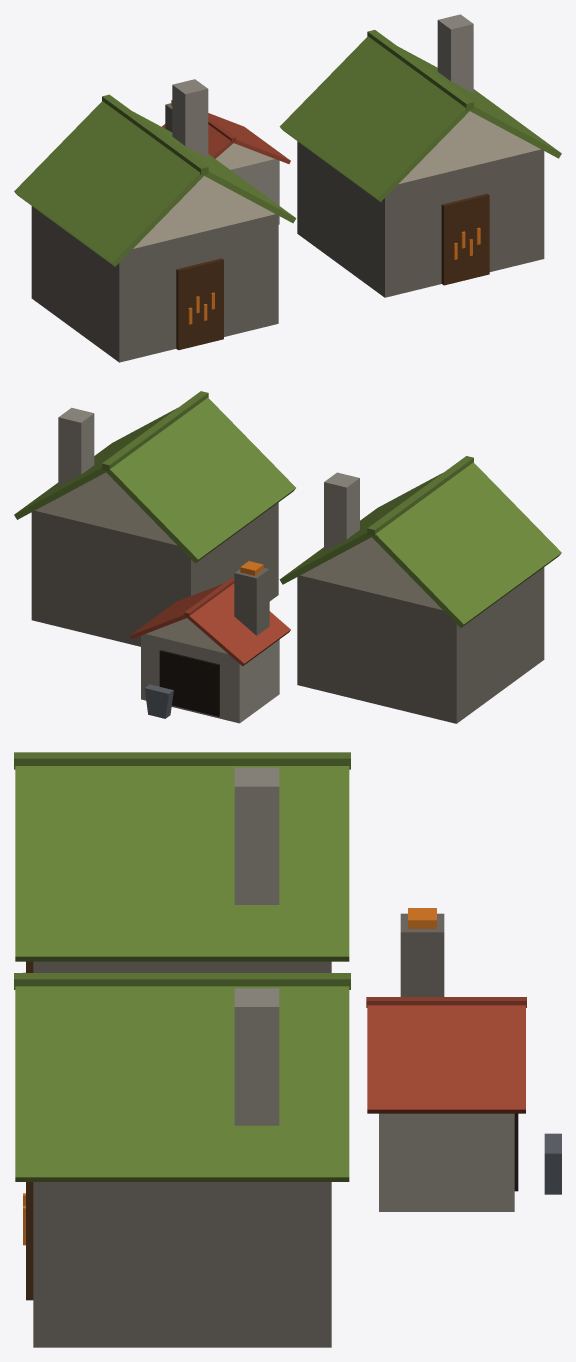
File: dwarf_row_broken.glb
3 renders of one model, top to bottom at view 1: azimuth 30°, elevation 25°; view 2: azimuth 150°, elevation 25°; view 3: azimuth 270°, elevation 25°, orthographic. The views are drawn at different scales.
Visible parts, largest first — view 1: dwarf_row_piece4, dwarf_row_piece7, dwarf_row_piece10, dwarf_row_piece5, dwarf_row_piece2, dwarf_row_piece13, dwarf_row_piece9, dwarf_row_piece11, dwarf_row_piece3, dwarf_row_piece6, dwarf_row_piece1, dwarf_row_piece0 (+2 smaller); view 2: dwarf_row_piece1, dwarf_row_piece13, dwarf_row_piece5, dwarf_row_piece3, dwarf_row_piece10, dwarf_row_piece4, dwarf_row_piece0, dwarf_row_piece2, dwarf_row_piece9, dwarf_row_piece8, dwarf_row_piece6, dwarf_row_piece11 (+1 smaller); view 3: dwarf_row_piece4, dwarf_row_piece1, dwarf_row_piece7, dwarf_row_piece5, dwarf_row_piece3, dwarf_row_piece0, dwarf_row_piece10, dwarf_row_piece8, dwarf_row_piece9, dwarf_row_piece6, dwarf_row_piece13.
Boxes of the visible parts, <box> form: dwarf_row_piece4: <box>327,14,561,297</box>; dwarf_row_piece7: <box>130,153,296,341</box>; dwarf_row_piece10: <box>328,70,492,289</box>; dwarf_row_piece5: <box>76,80,230,332</box>; dwarf_row_piece2: <box>25,182,342,306</box>; dwarf_row_piece13: <box>14,114,346,331</box>; dwarf_row_piece9: <box>15,108,237,200</box>; dwarf_row_piece11: <box>69,284,230,362</box>; dwarf_row_piece3: <box>42,87,336,198</box>; dwarf_row_piece6: <box>172,69,420,219</box>; dwarf_row_piece1: <box>162,113,322,251</box>; dwarf_row_piece0: <box>165,100,264,178</box>; dwarf_row_piece1: <box>14,505,260,723</box>; dwarf_row_piece13: <box>181,546,502,723</box>; dwarf_row_piece5: <box>325,469,561,629</box>; dwarf_row_piece3: <box>155,515,435,612</box>; dwarf_row_piece10: <box>161,391,295,586</box>; dwarf_row_piece4: <box>25,407,278,601</box>; dwarf_row_piece0: <box>203,561,283,707</box>; dwarf_row_piece2: <box>217,552,528,676</box>; dwarf_row_piece9: <box>313,514,474,626</box>; dwarf_row_piece8: <box>21,488,204,544</box>; dwarf_row_piece6: <box>161,426,348,566</box>; dwarf_row_piece11: <box>494,604,544,689</box>; dwarf_row_piece4: <box>15,973,350,1347</box>; dwarf_row_piece1: <box>155,997,561,1347</box>; dwarf_row_piece7: <box>14,752,215,972</box>; dwarf_row_piece5: <box>70,752,283,944</box>; dwarf_row_piece3: <box>238,752,350,972</box>; dwarf_row_piece0: <box>367,908,452,1059</box>; dwarf_row_piece10: <box>14,973,171,1026</box>; dwarf_row_piece8: <box>196,1079,349,1301</box>; dwarf_row_piece9: <box>204,752,292,972</box>; dwarf_row_piece6: <box>171,782,279,973</box>; dwarf_row_piece13: <box>313,908,410,1032</box>.
Size of the model in its own units: 5.93 by 2.45 by 3.68.
